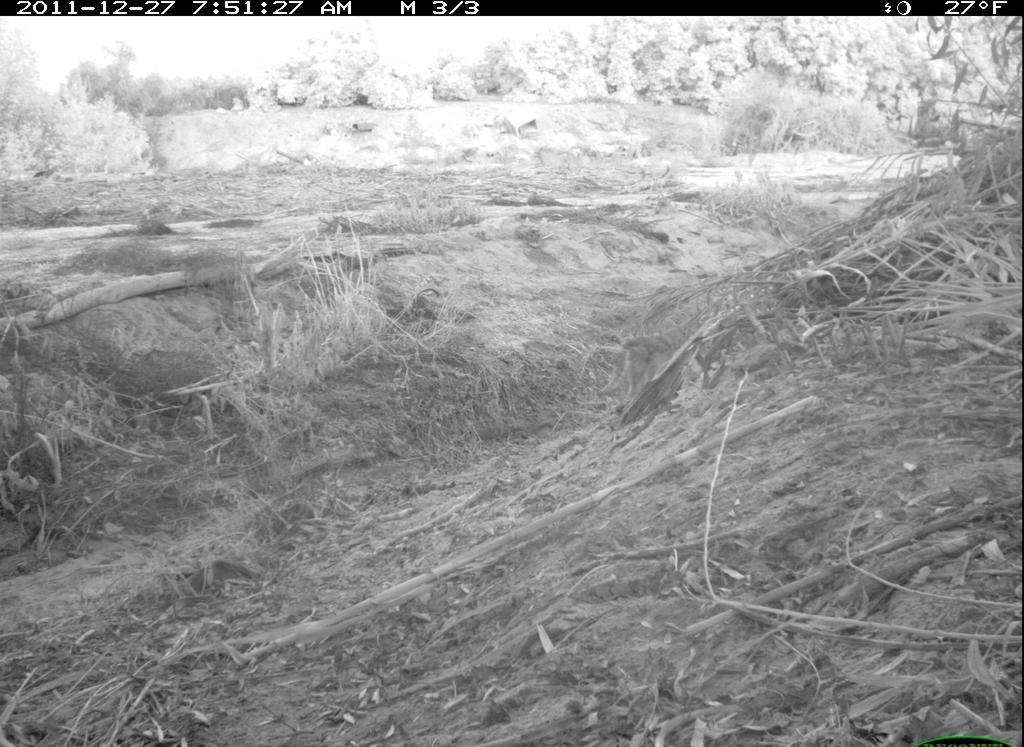coyote: (597, 312, 701, 420)
